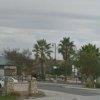Tree: (24, 28, 100, 81)
